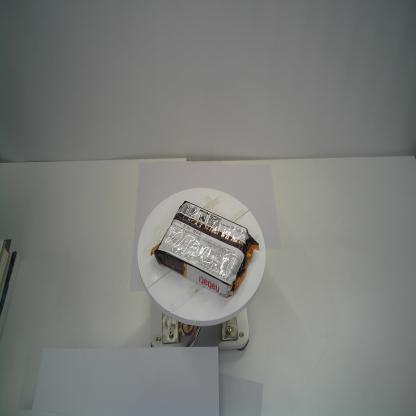Dessert: (150, 200, 260, 298)
